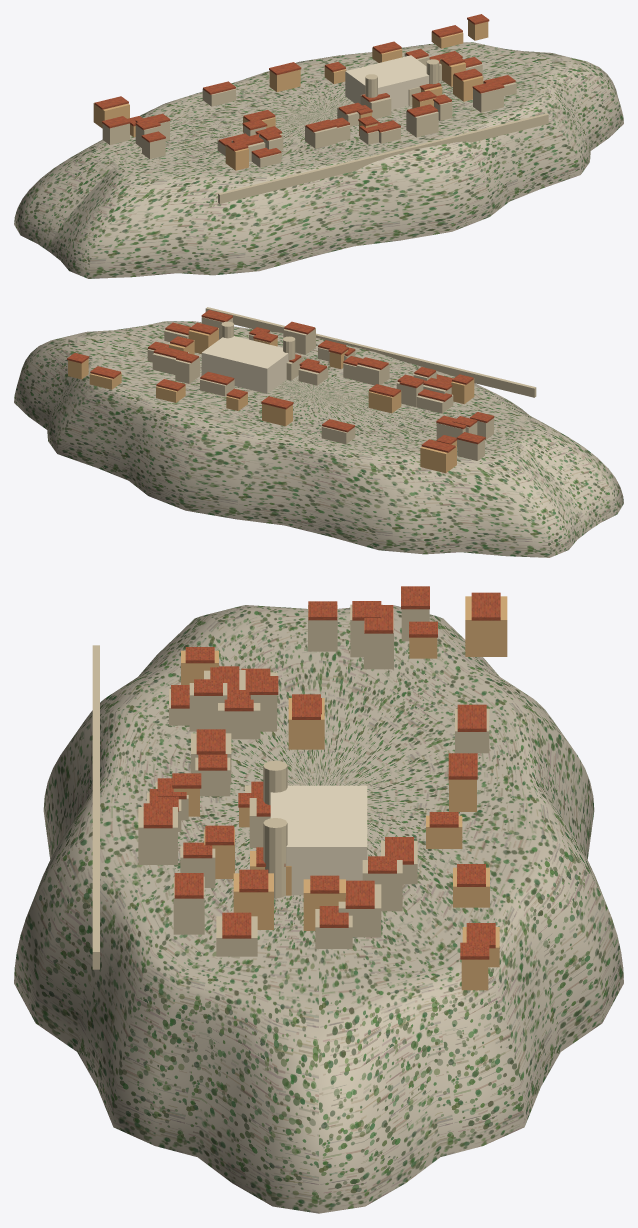
Rendered from rock_headland.glb.
3 views of the same model, one above another, from view 1: azimuth 30°, elevation 25°; view 2: azimuth 150°, elevation 25°; view 3: azimuth 270°, elevation 25° (orthographic). The views are drawn at different scales.
Visible parts, largest first — view 1: rock; view 2: rock; view 3: rock.
Part boxes in pixels (left/top/right/bottom): rock: left=14, top=14, right=623, bottom=278; rock: left=14, top=307, right=623, bottom=557; rock: left=14, top=586, right=623, bottom=1213.
Size of the model in its own units: 524 by 94 by 252.
19 materials, 2 textured.
